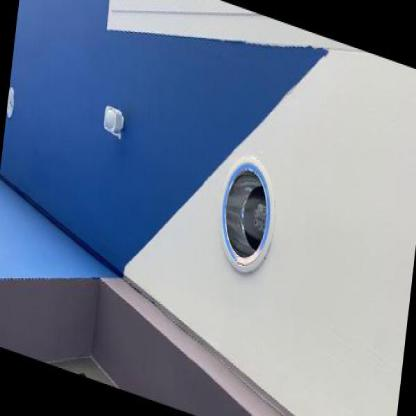light_off: (208, 123, 289, 288)
